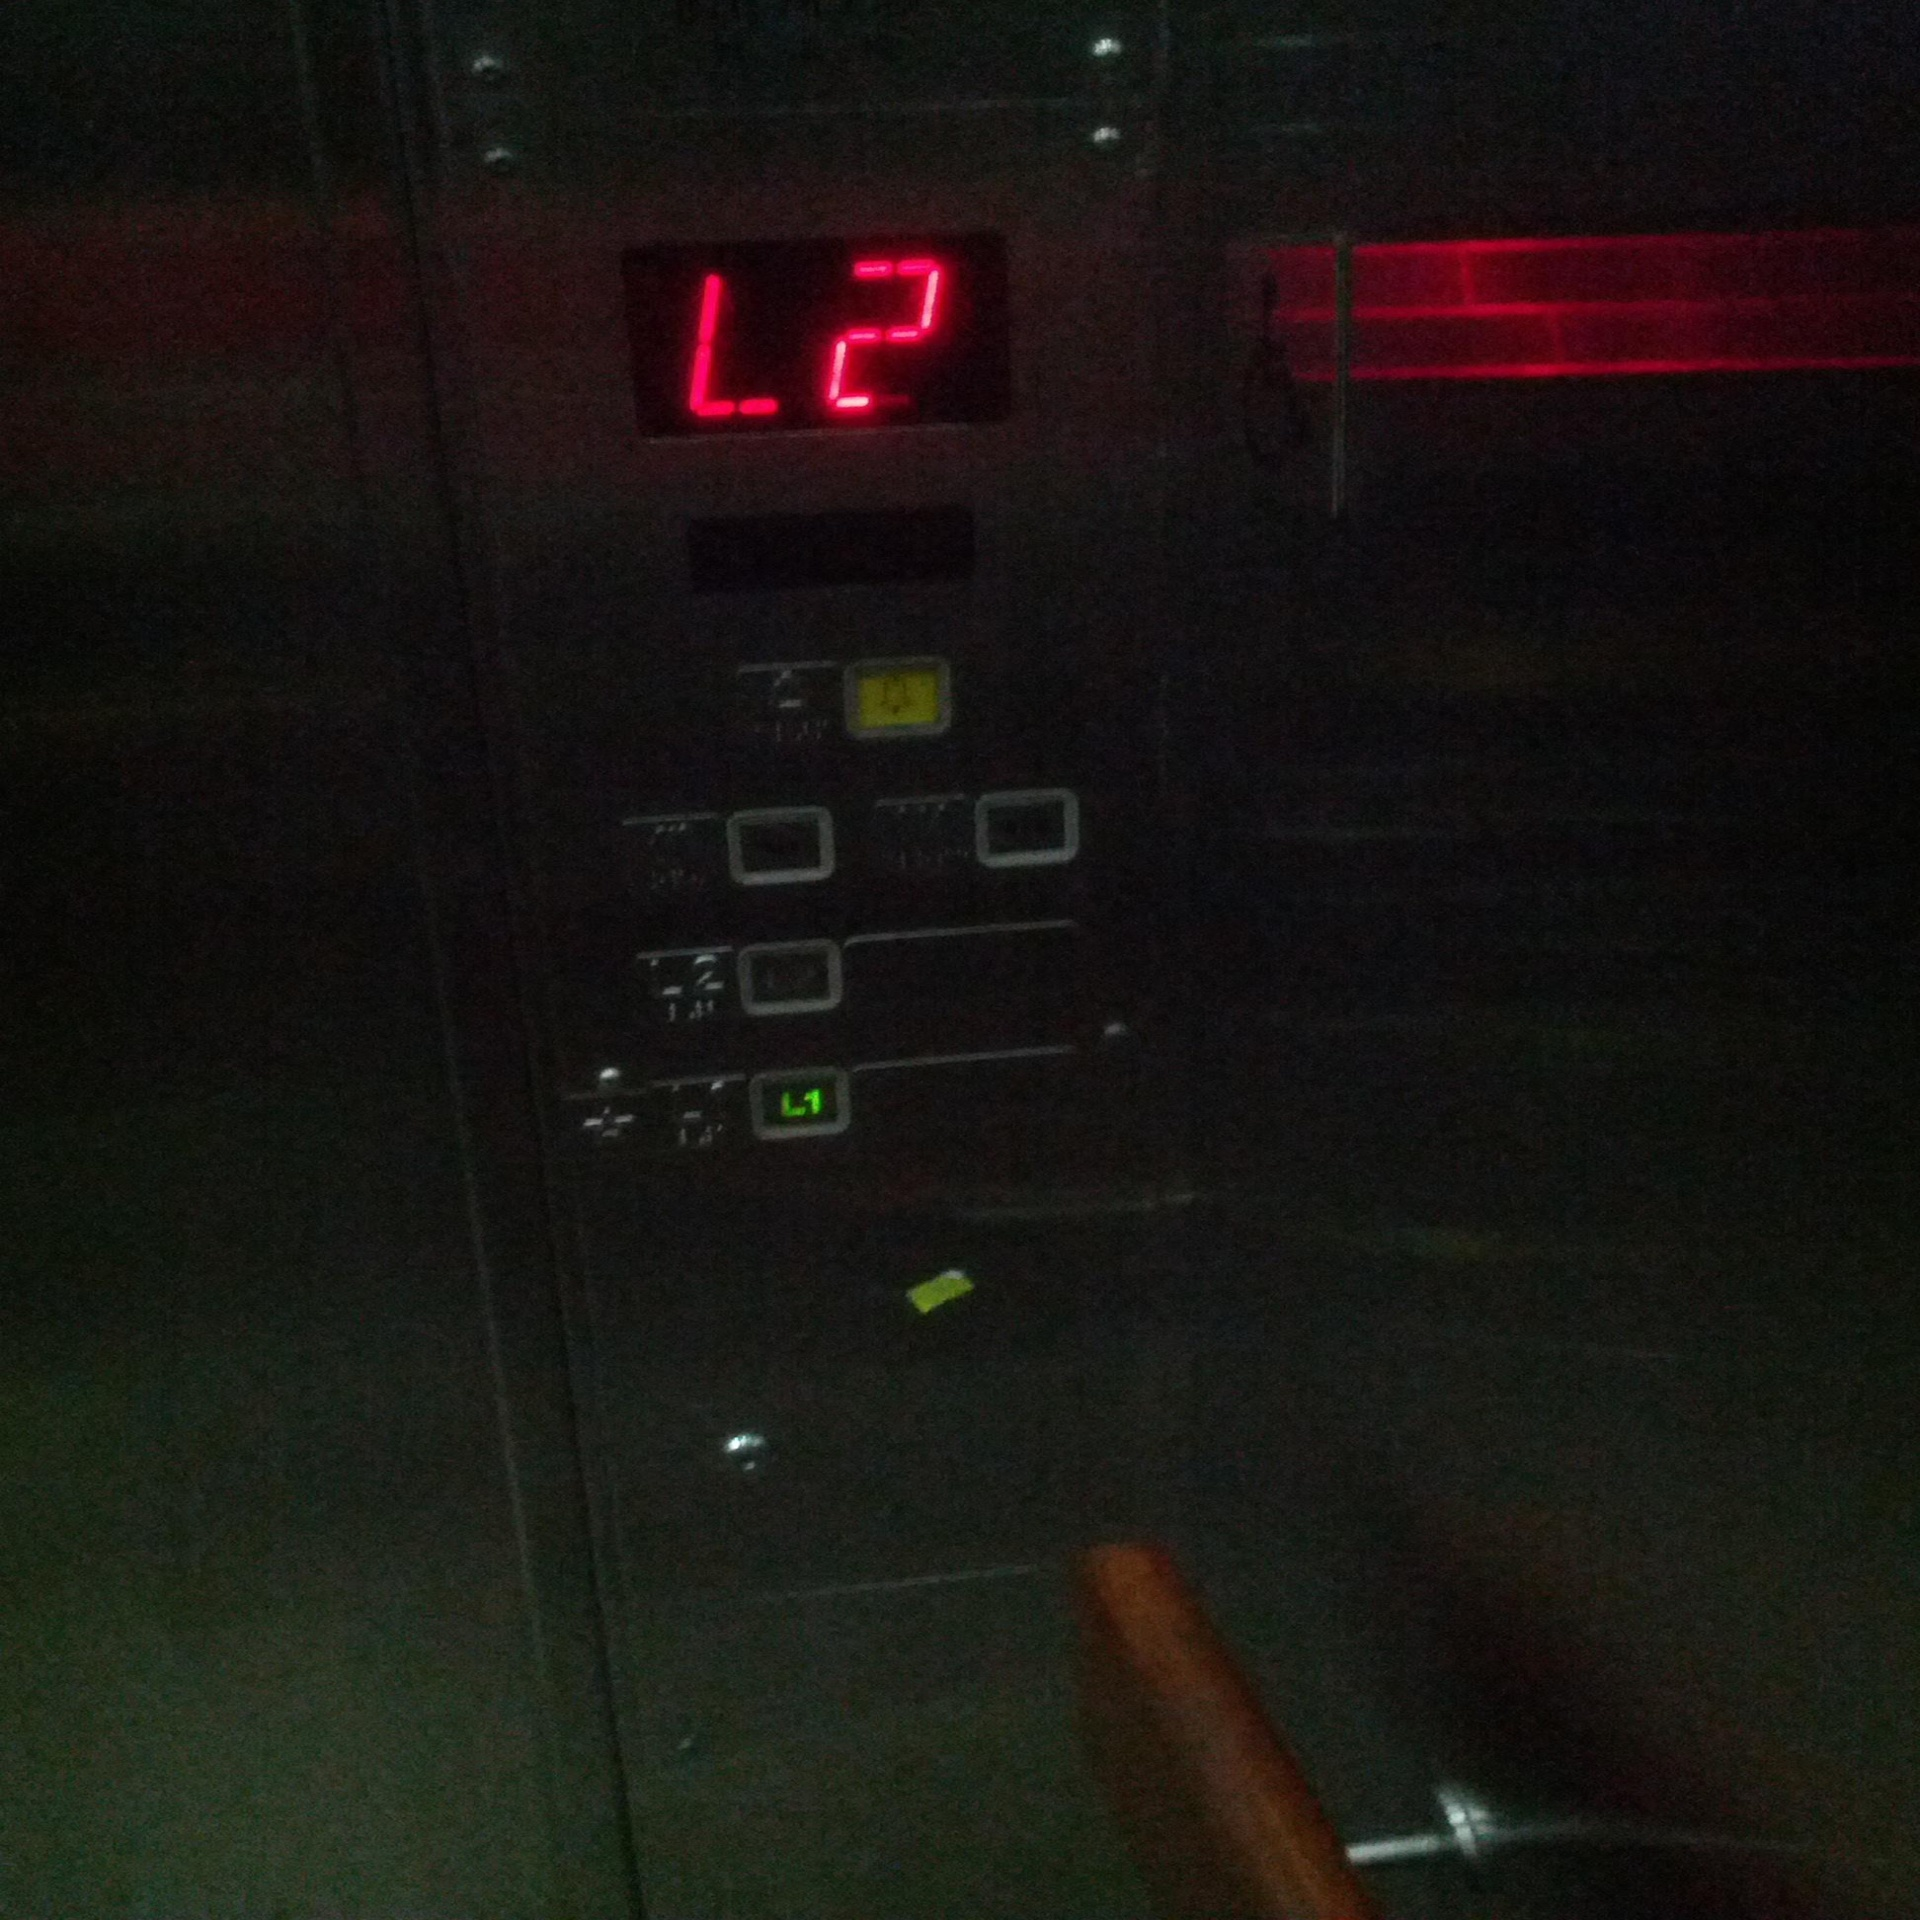L1: (645, 1074, 745, 1160), (751, 1064, 853, 1139)
L2: (626, 946, 740, 1034)
alarm: (728, 659, 844, 753), (842, 661, 951, 737)
blur: (724, 804, 839, 890), (969, 788, 1083, 869), (738, 934, 842, 1020)
close: (856, 795, 976, 886)
led: (596, 223, 1015, 433)
open: (607, 812, 733, 898)
s: (561, 1081, 642, 1167)
